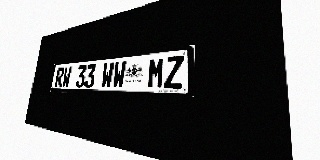3: (84, 64, 96, 88), (75, 65, 87, 88)
M: (147, 57, 165, 89)
R: (55, 67, 65, 88)
W: (112, 61, 127, 88), (100, 62, 114, 88), (62, 66, 72, 88)
Z: (164, 55, 184, 89)
